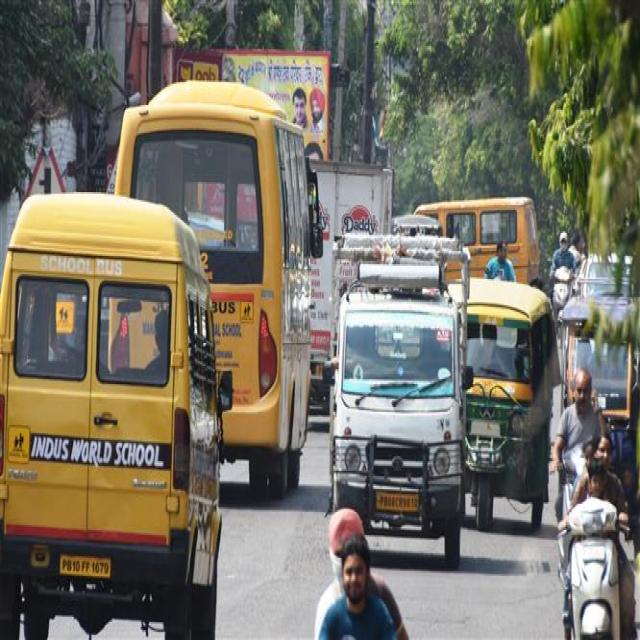autorickshaw: (466, 277, 559, 530)
bus: (0, 194, 224, 638), (115, 79, 322, 496)
motorcycle: (559, 435, 636, 639)
truck: (330, 237, 469, 567)
